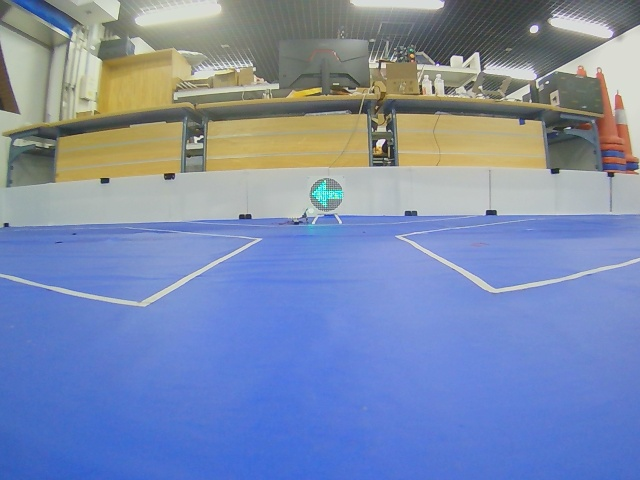left_green: (310, 178, 343, 212)
